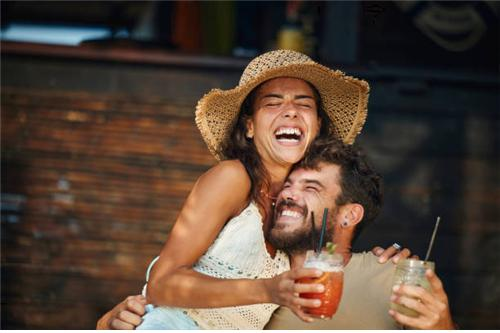alcohol: (295, 250, 344, 319), (387, 256, 433, 325)
